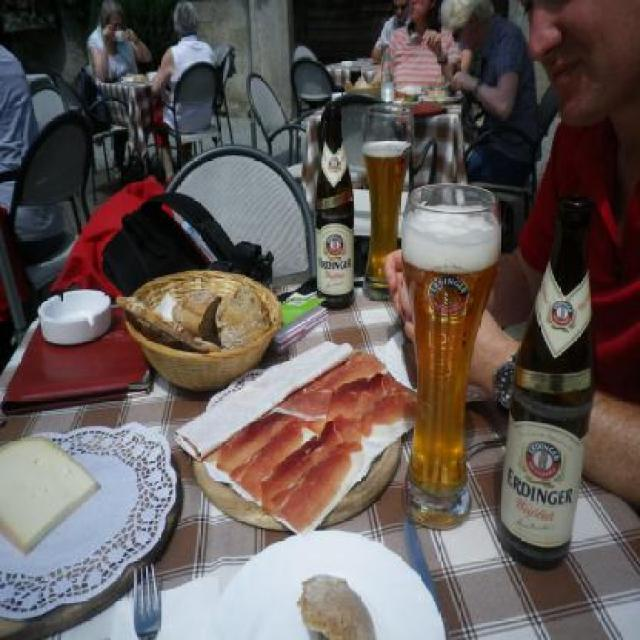Cheese: (0, 434, 98, 554)
